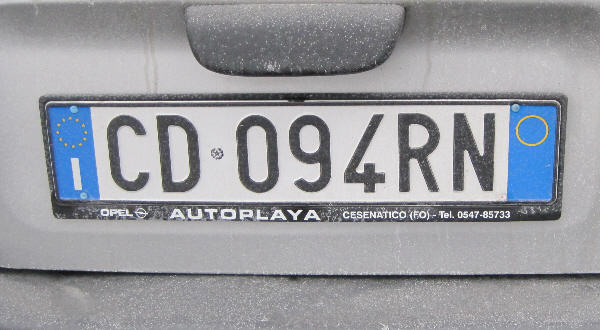license_plate: (43, 98, 558, 206)
